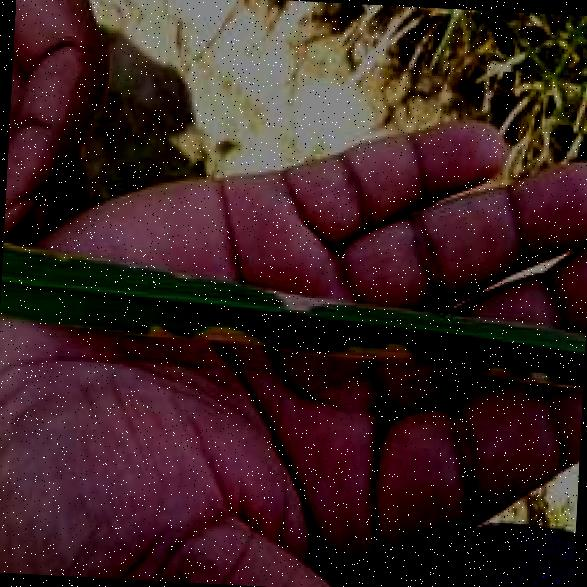Bacteria_Leaf_Blight: (121, 303, 554, 396), (7, 226, 396, 327)
